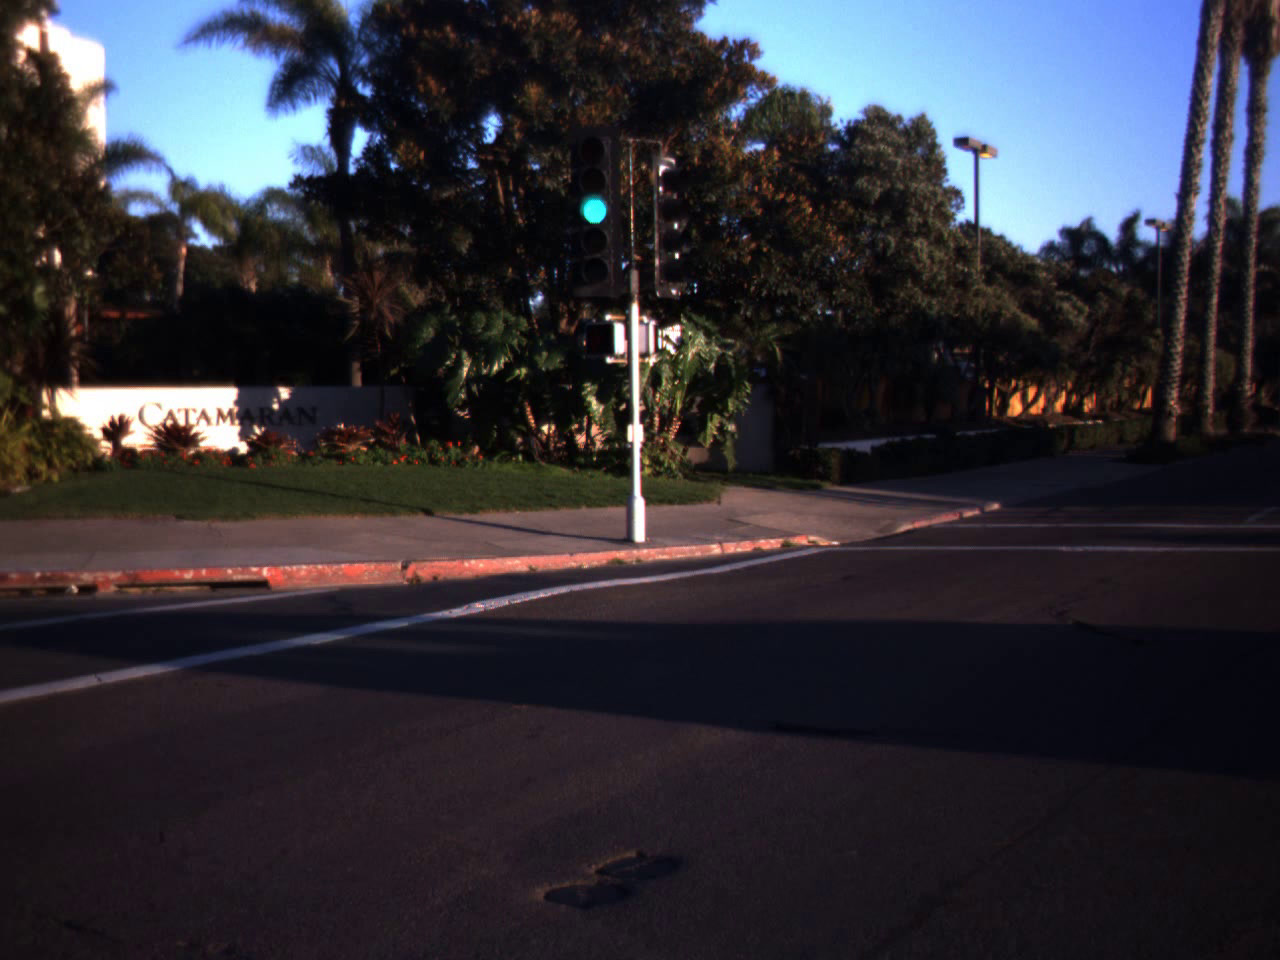go: (562, 123, 628, 233)
